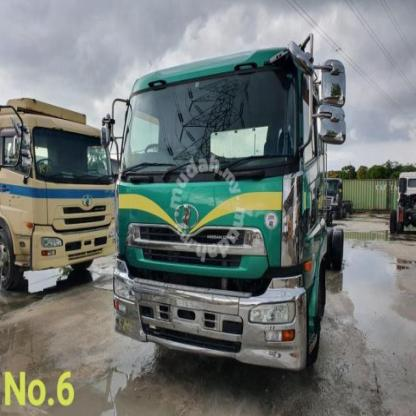dump_truck: (102, 37, 372, 386), (1, 90, 122, 302)
